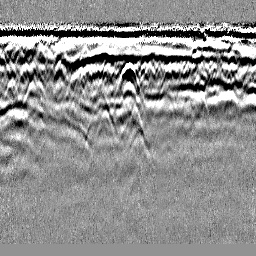cavity: (114, 59, 145, 103)
